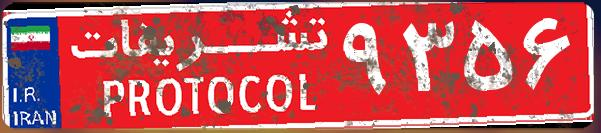3: (400, 20, 460, 115)
5: (460, 20, 520, 115)
6: (520, 20, 580, 115)
9: (340, 20, 400, 115)
تشریفات: (60, 8, 340, 125)
